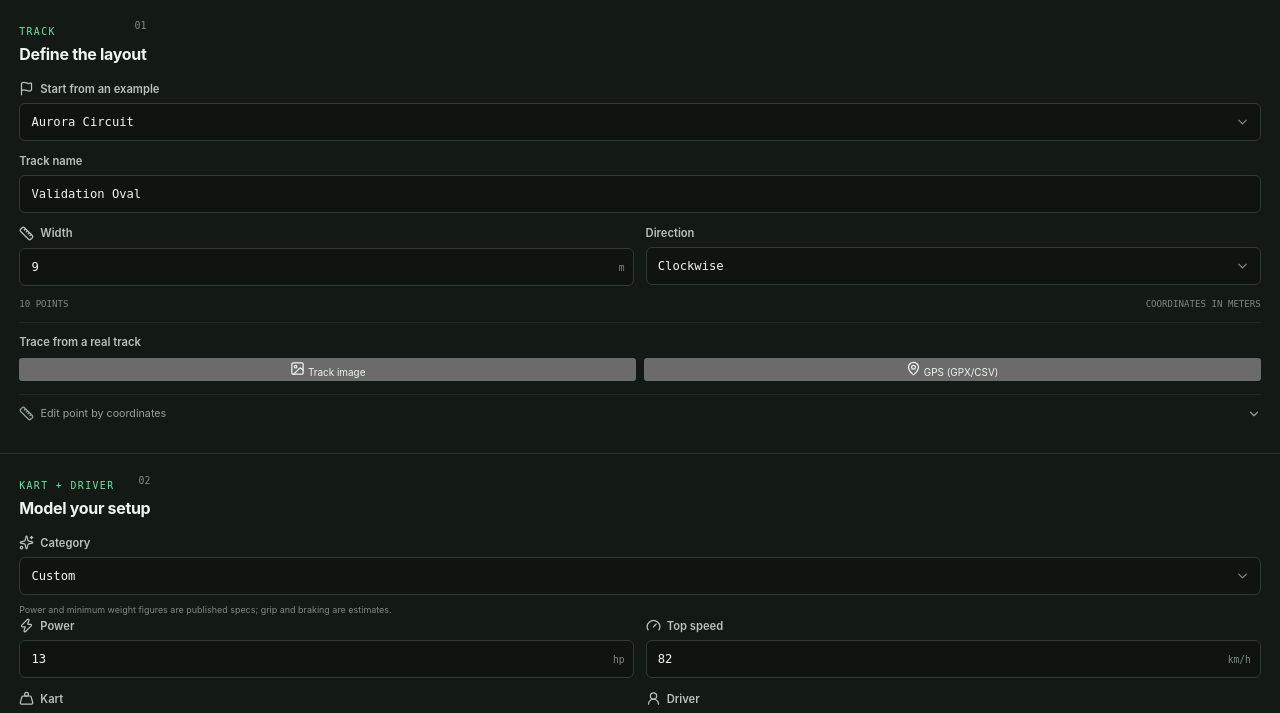
the kart fields › drops a half-typed draft when the field loses focus
The image size is (1280, 713).
Clear the number field labelled "Power hp": (327, 659) [19, 640, 634, 678]
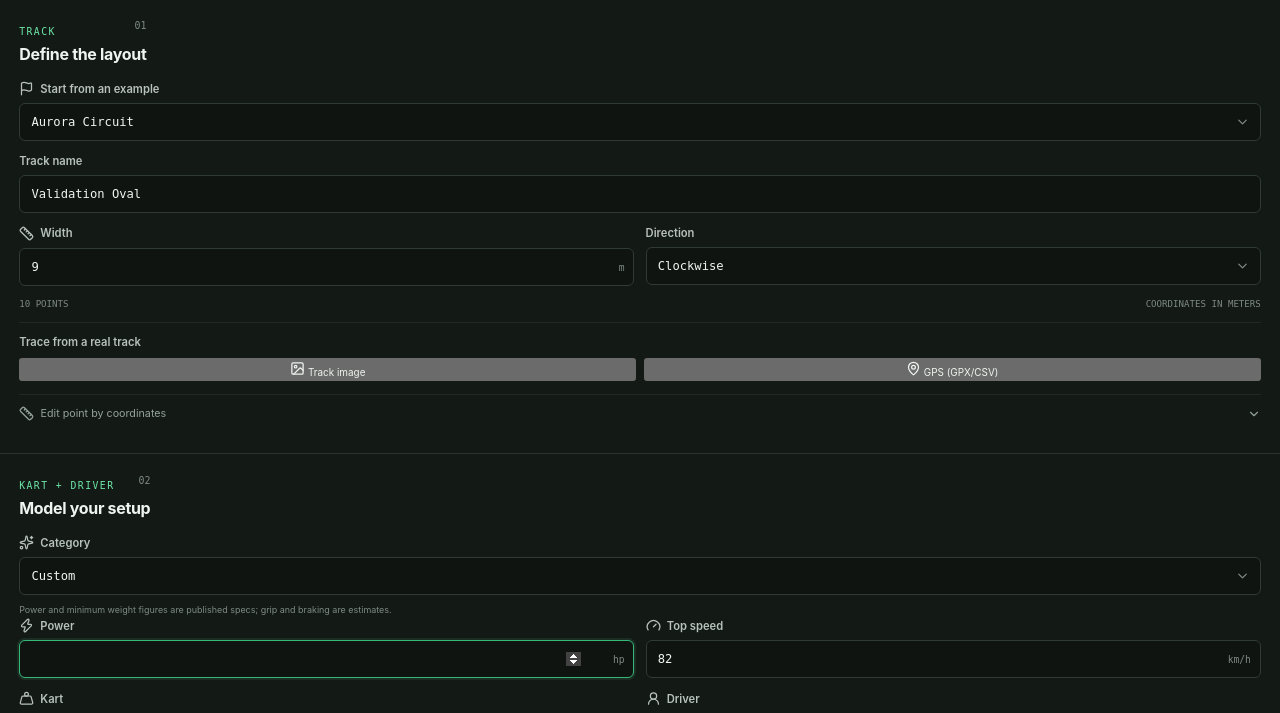
Press Tab
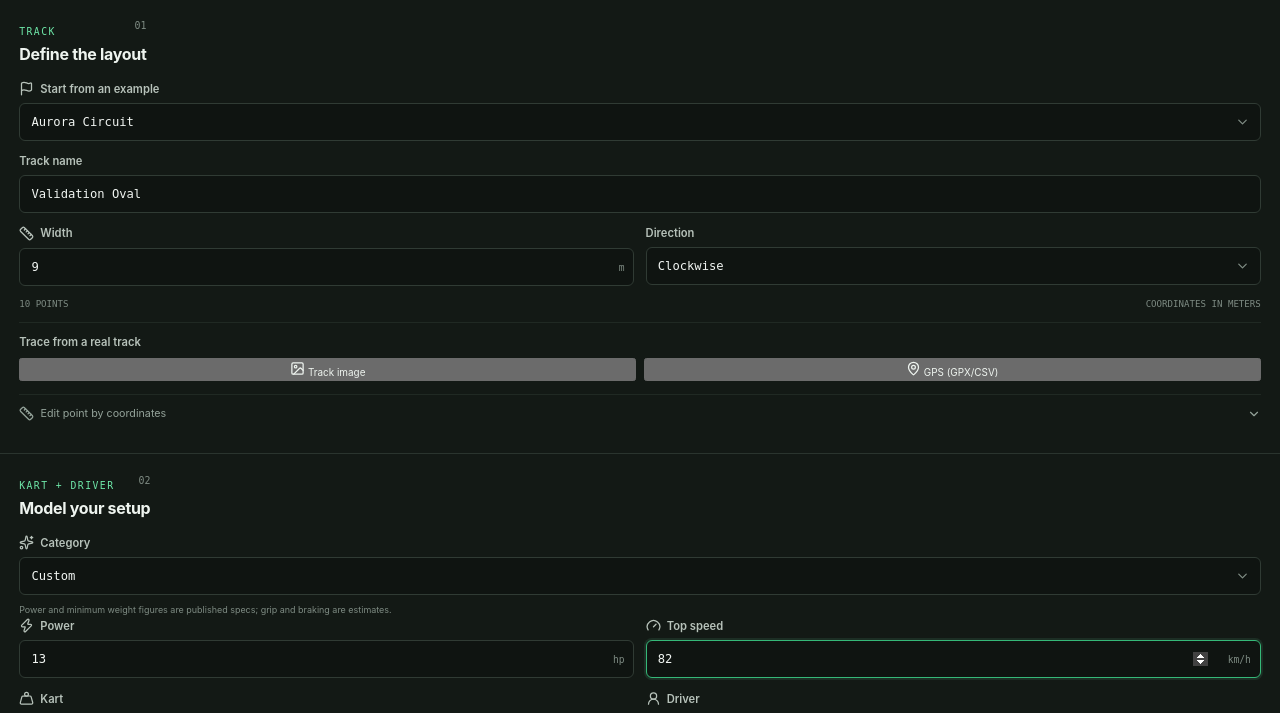
Now the number field labelled "Power hp" holds "13", box [19, 640, 634, 678]
